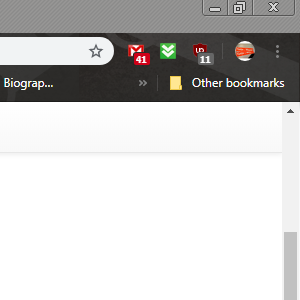close: (252, 1, 294, 16)
